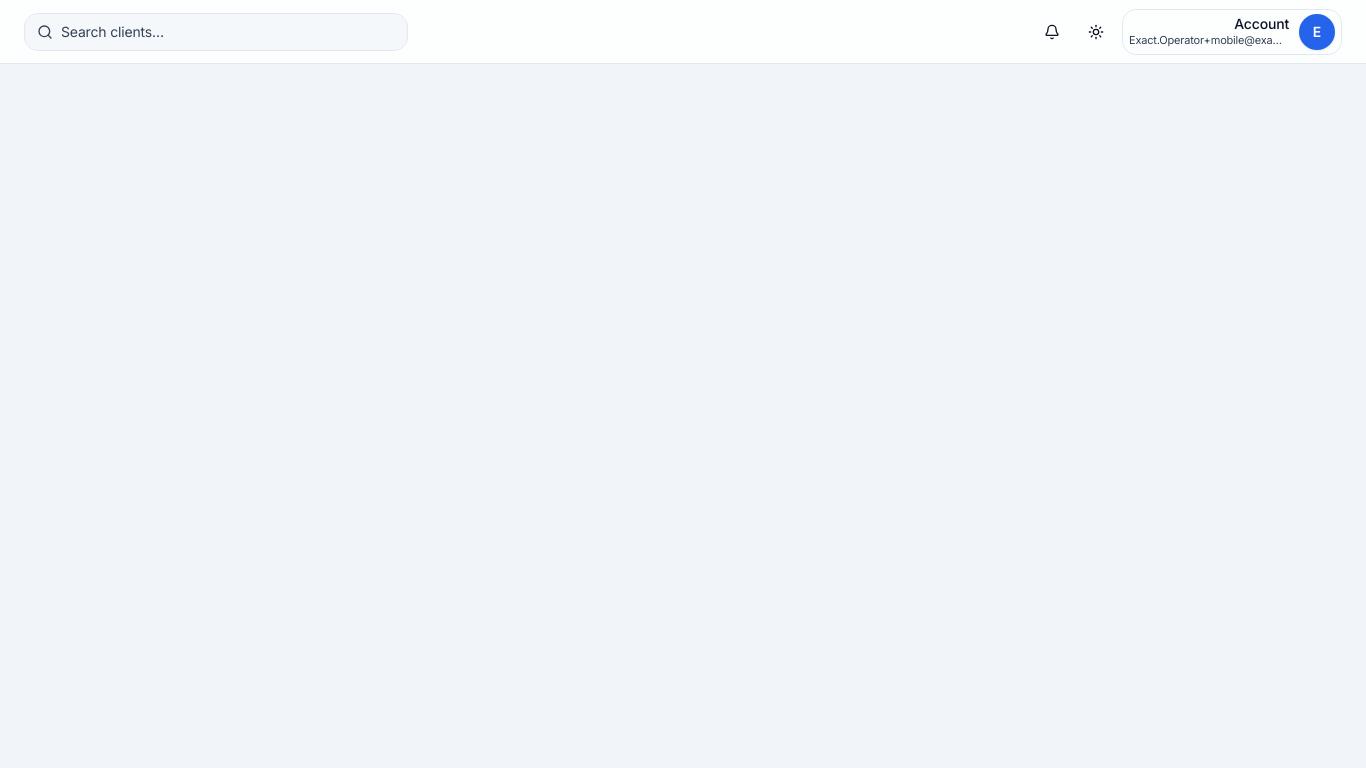
it: mobile Account control › closes via Close, restores scrolling and returns focus
Click the button "Account Exact.Operator+mobile@example.test E": (1232, 32) [1122, 8, 1342, 54]
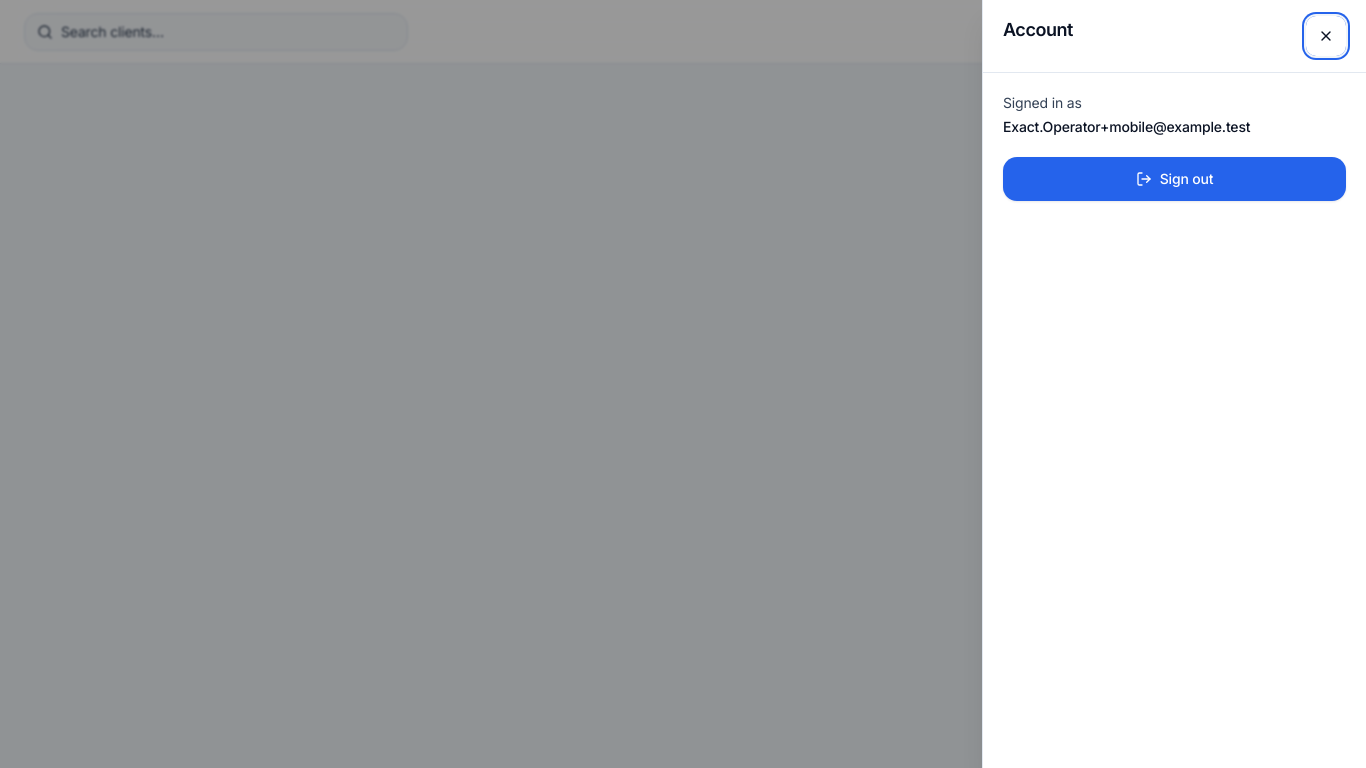
Click the button named "Close": (1326, 36) [1306, 16, 1346, 56]
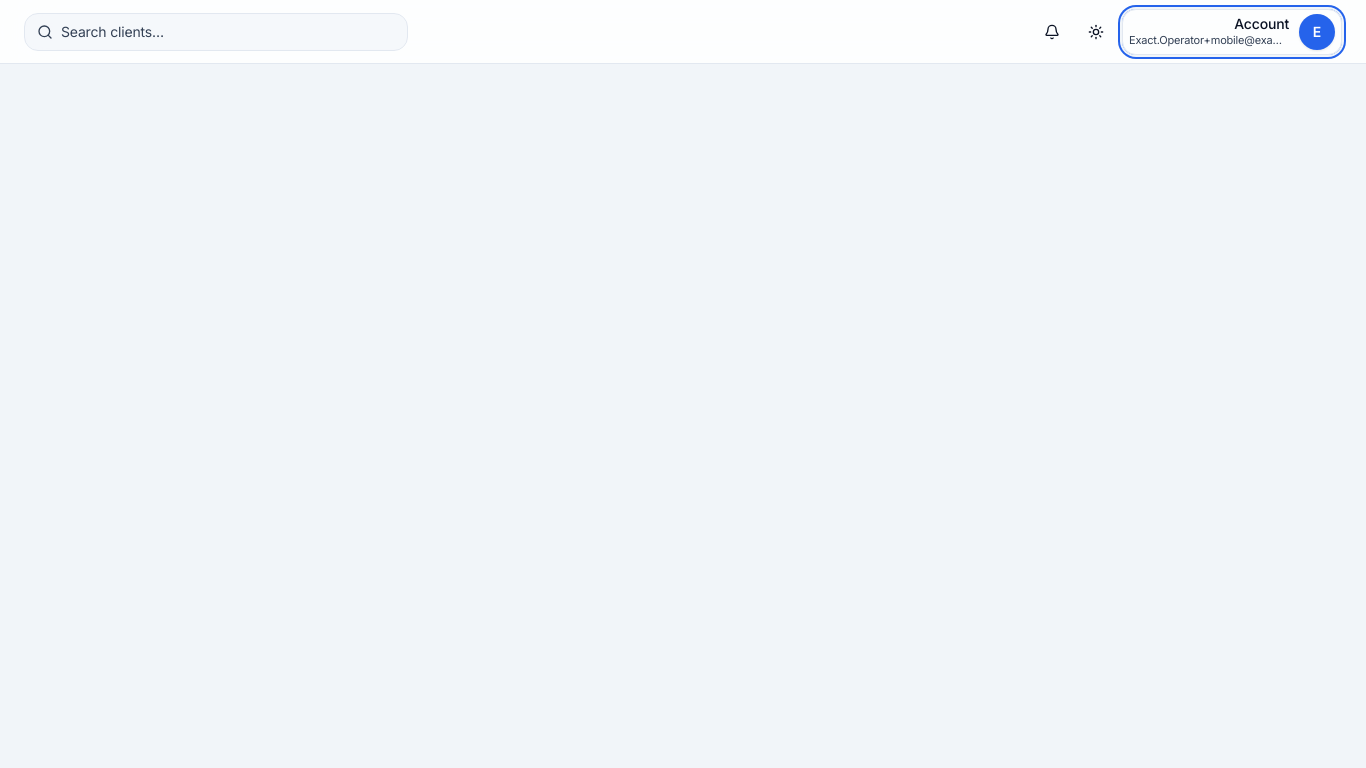
expect the dialog is gone: met
